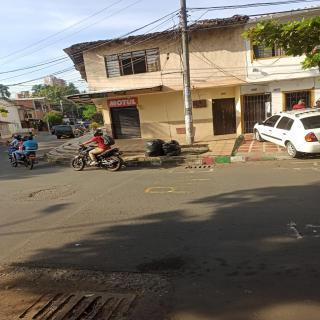Garbage: (144, 139, 166, 157), (162, 140, 182, 157)
